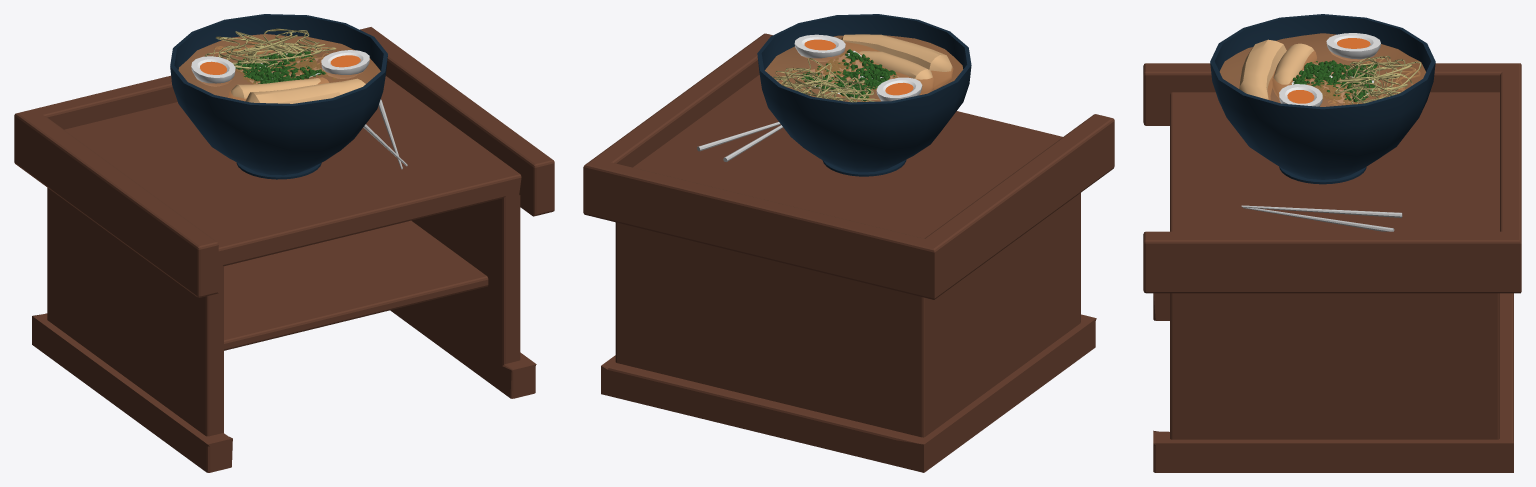
Rendered from Ramencito+Taula.fbx.
The picture shows the model from 3 angles, left to right: view 1: azimuth 30°, elevation 25°; view 2: azimuth 150°, elevation 25°; view 3: azimuth 270°, elevation 25°; orthographic projection. The views are drawn at different scales.
Visible parts, largest first — view 1: Mesa, Bol, Caldo, Fideos, Chicha, Huevo, Huevo.001, Chicha.001; view 2: Mesa, Bol, Caldo, Chicha, Fideos, Chicha.001, Huevo, Huevo.001; view 3: Mesa, Bol, Caldo, Fideos, Chicha, Huevo.001, Chicha.001, Huevo, Palillos, Pallilos.
Boxes of the visible parts, left/top/right/bottom form: Mesa: left=14, top=27, right=554, bottom=472; Bol: left=170, top=14, right=387, bottom=179; Caldo: left=178, top=34, right=380, bottom=101; Fideos: left=205, top=28, right=336, bottom=69; Chicha: left=245, top=78, right=365, bottom=103; Huevo: left=321, top=50, right=369, bottom=78; Huevo.001: left=191, top=56, right=235, bottom=85; Chicha.001: left=228, top=78, right=328, bottom=100; Mesa: left=583, top=33, right=1114, bottom=472; Bol: left=757, top=14, right=971, bottom=176; Caldo: left=765, top=35, right=963, bottom=102; Chicha: left=841, top=34, right=952, bottom=87; Fideos: left=773, top=58, right=878, bottom=102; Chicha.001: left=856, top=51, right=934, bottom=94; Huevo: left=794, top=34, right=845, bottom=61; Huevo.001: left=876, top=77, right=922, bottom=101; Mesa: left=1143, top=63, right=1521, bottom=472; Bol: left=1210, top=14, right=1435, bottom=184; Caldo: left=1219, top=33, right=1425, bottom=106; Fideos: left=1328, top=55, right=1421, bottom=104; Chicha: left=1239, top=39, right=1286, bottom=99; Huevo.001: left=1326, top=33, right=1380, bottom=60; Chicha.001: left=1273, top=43, right=1316, bottom=97; Huevo: left=1279, top=84, right=1322, bottom=106; Palillos: left=1241, top=205, right=1402, bottom=217; Pallilos: left=1243, top=207, right=1394, bottom=231.
Size of the model in its own units: 454 by 384 by 406.
